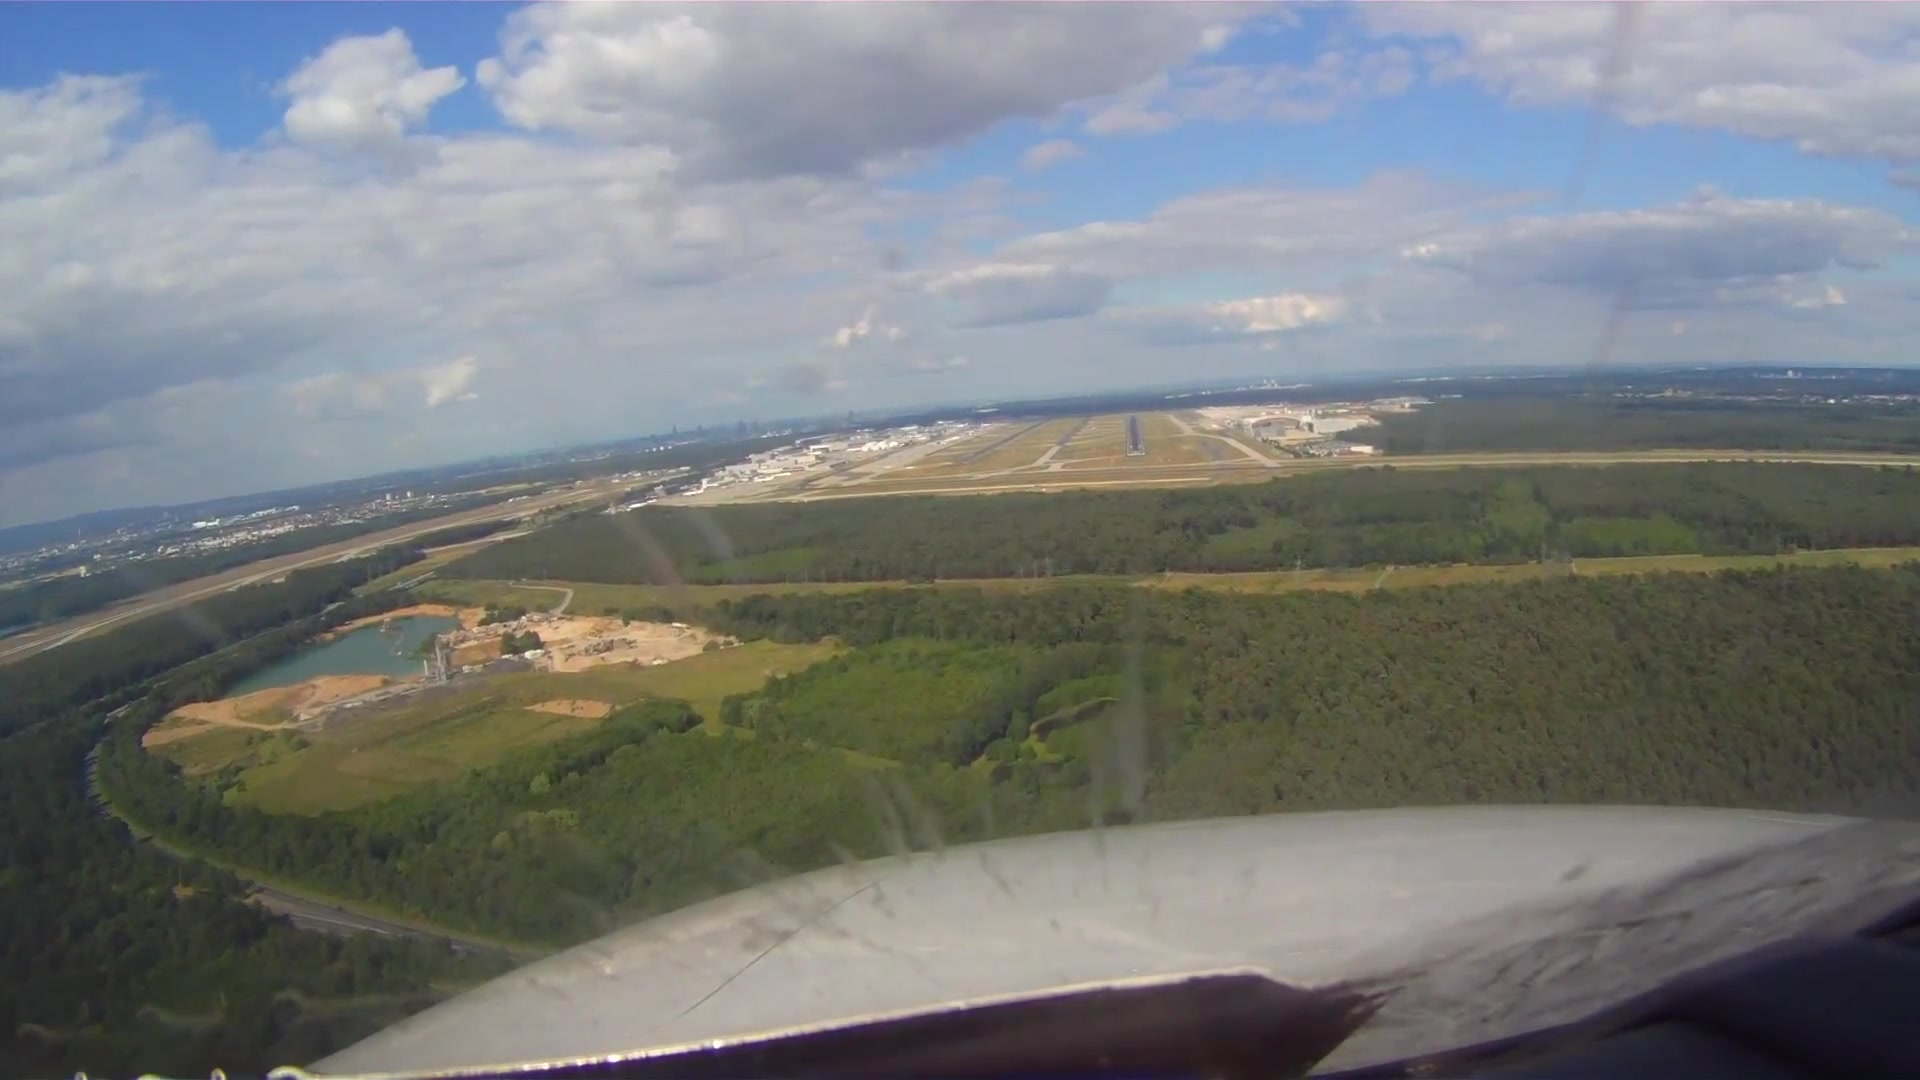runway: (1124, 411, 1147, 460)
